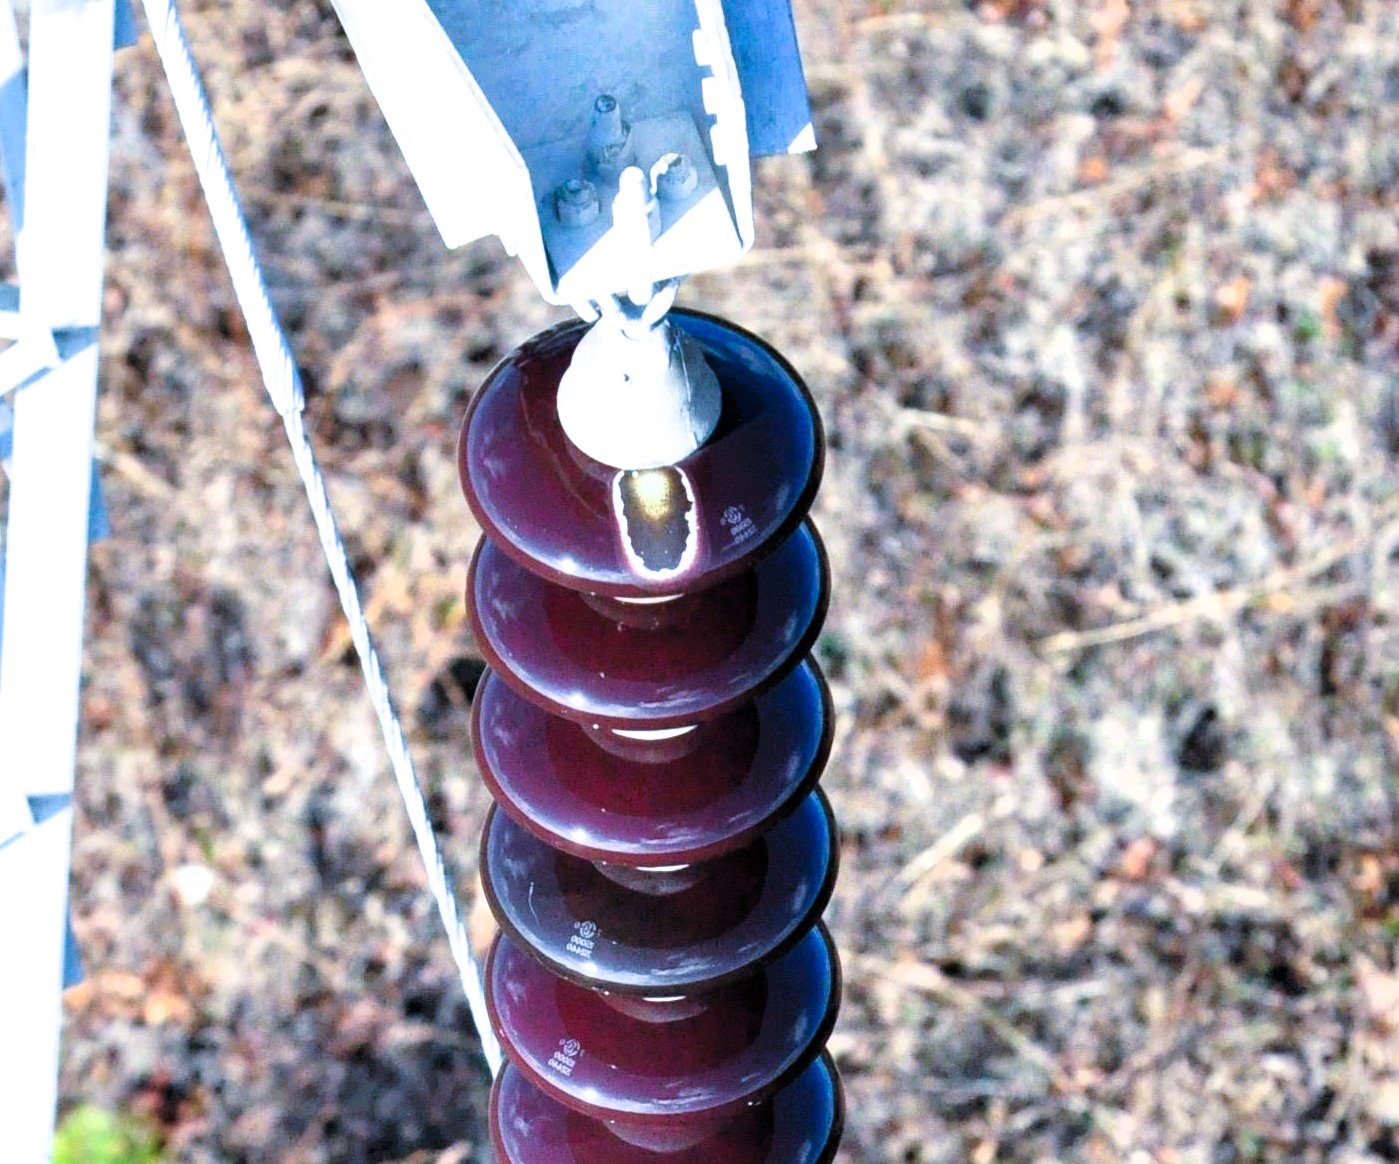Insulator flashover: (444, 307, 827, 598)
